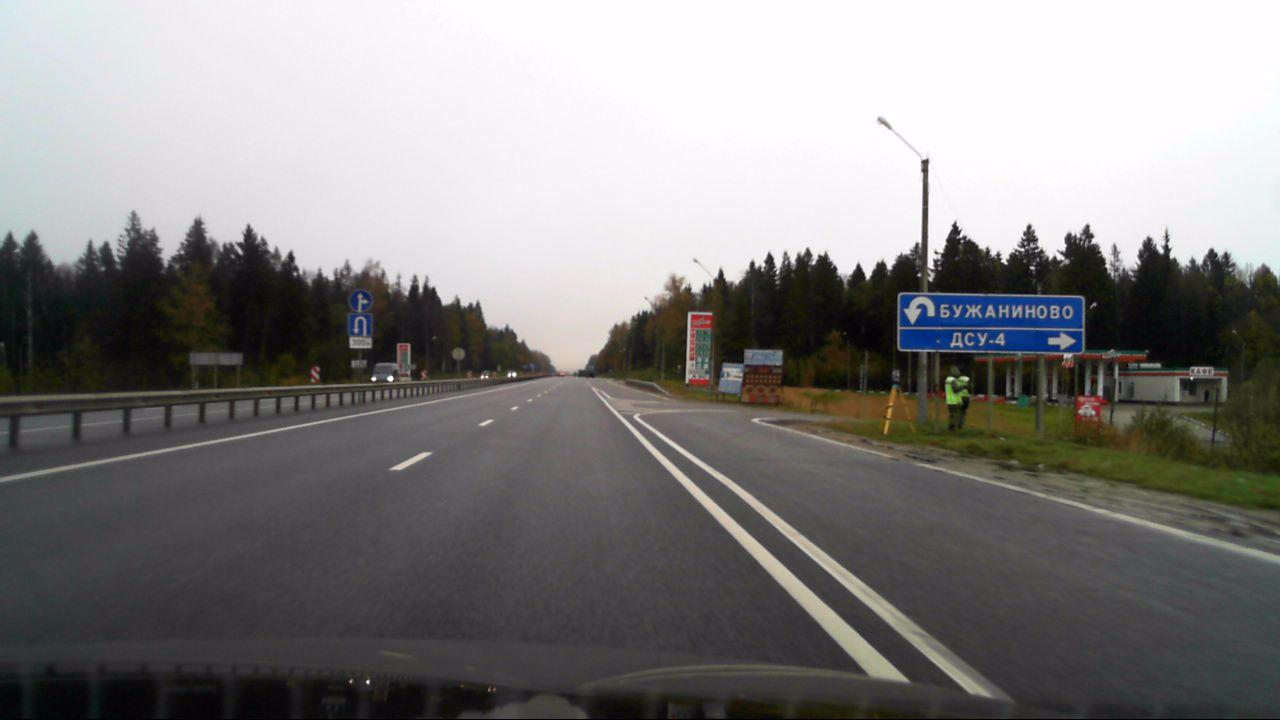4_1_4: (347, 288, 374, 312)
6_10_1: (895, 290, 1087, 355)
6_3_1: (349, 314, 372, 336)
8_1_1: (349, 337, 375, 349)
